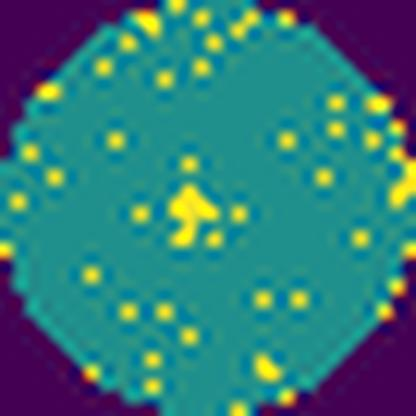Center: (159, 187, 226, 253)
